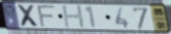1: (85, 5, 97, 30)
4: (115, 7, 131, 30)
7: (132, 6, 149, 30)
F: (36, 4, 57, 28)
H: (60, 4, 87, 29)
X: (16, 4, 42, 29)
